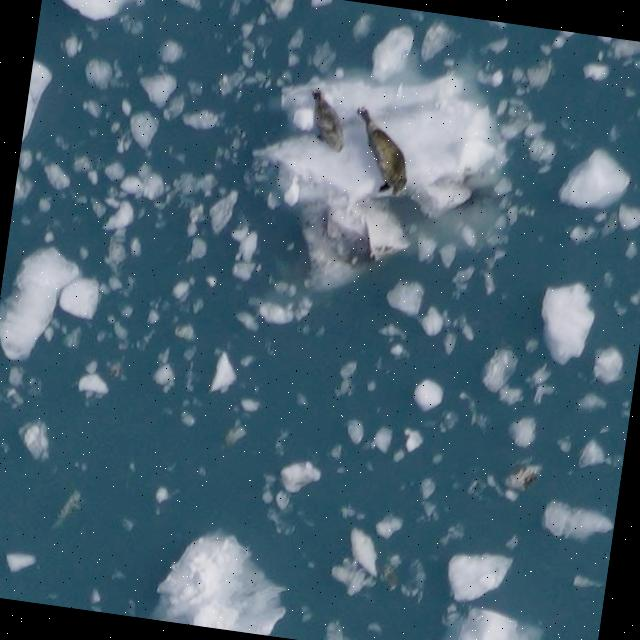seal: (343, 100, 419, 204), (309, 87, 347, 156)
